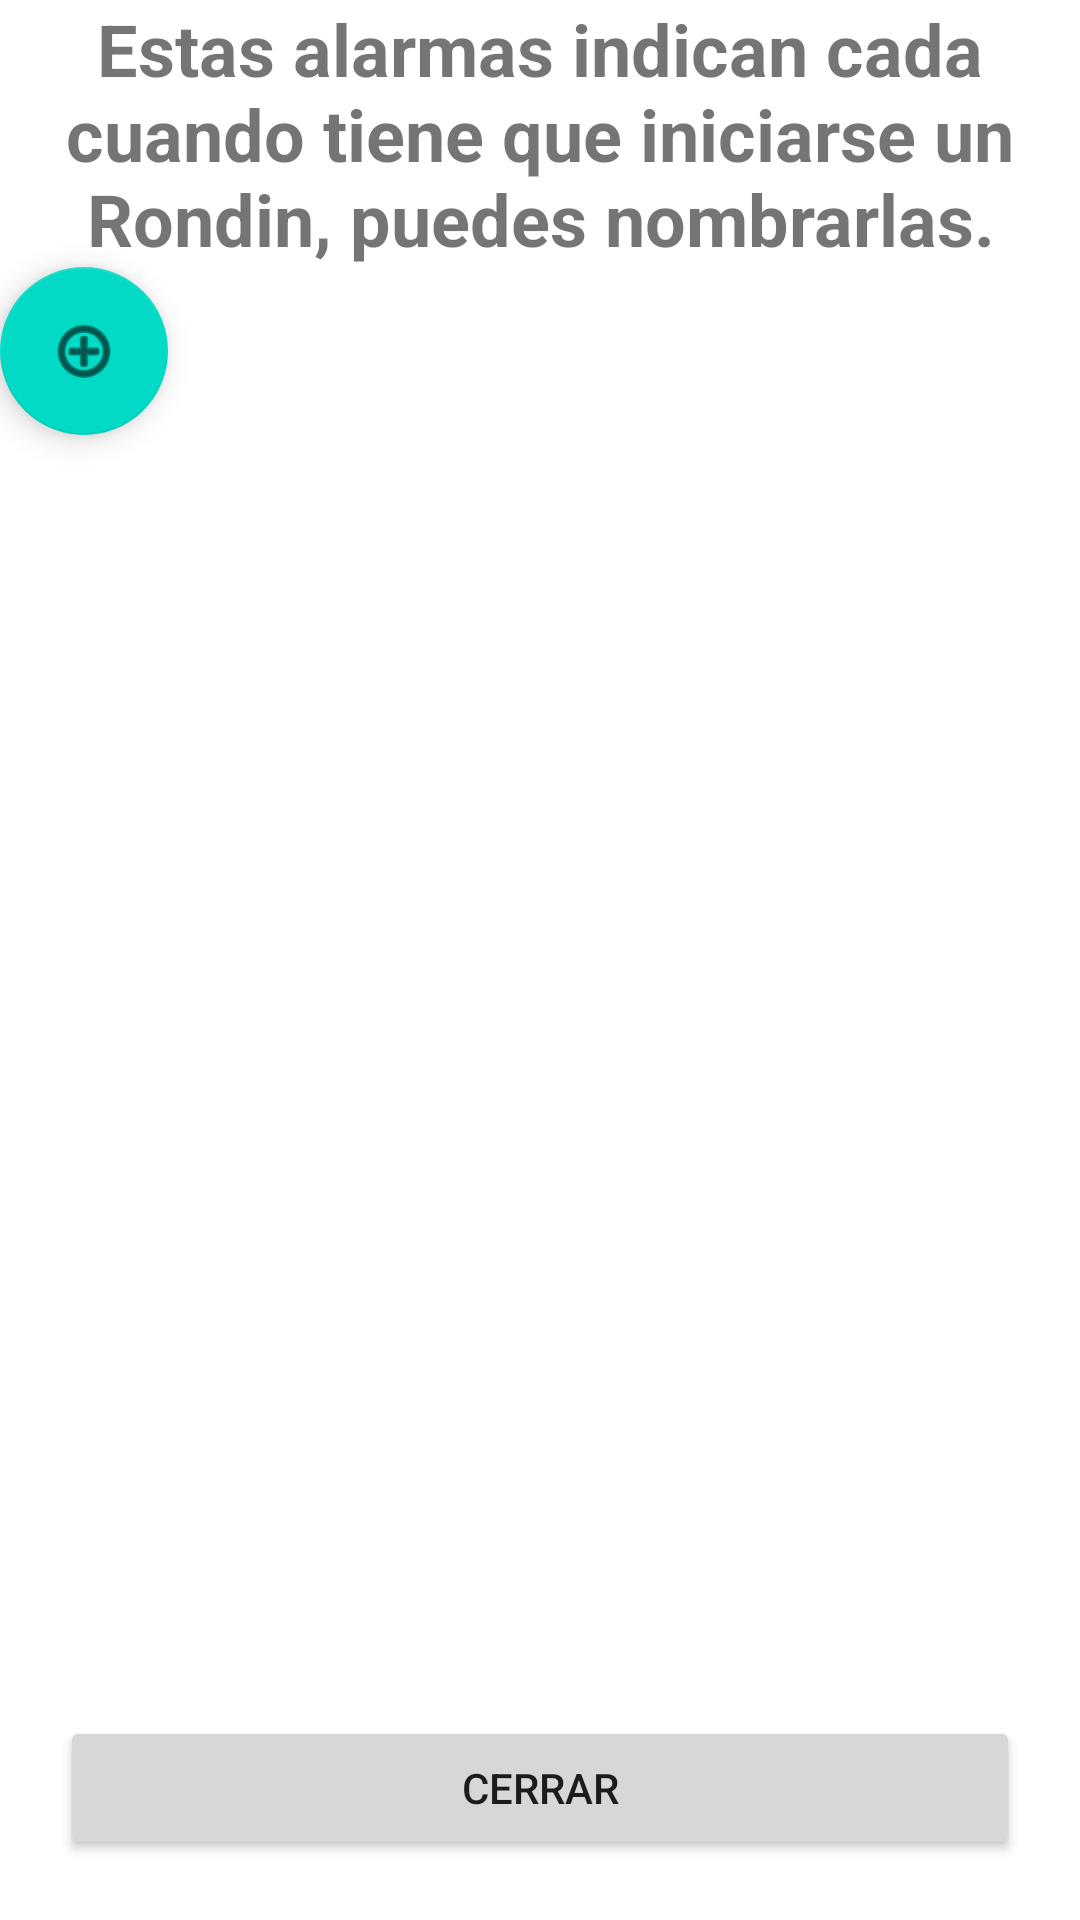

Where icons sit on this 1080*1920 app screen, as bbox=(x1, y1, x2, y2):
add: bbox=(0, 267, 168, 435)
